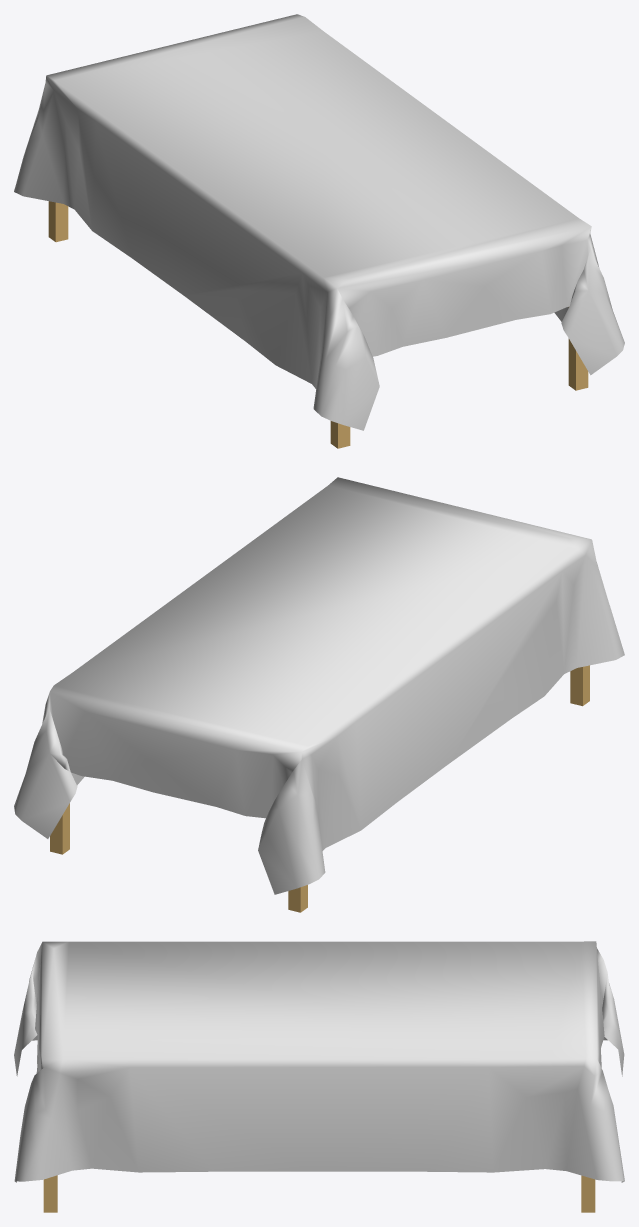
Rendered from bb_table1.fbx.
3 views of the same model, one above another, from view 1: azimuth 30°, elevation 25°; view 2: azimuth 150°, elevation 25°; view 3: azimuth 270°, elevation 25° (orthographic). The views are drawn at different scales.
Visible parts, largest first — view 1: Cube.001; view 2: Cube.001; view 3: Cube.001.
Boxes of the visible parts, x1,y1,x2,y2 form: Cube.001: [14, 14, 624, 448]; Cube.001: [14, 477, 624, 912]; Cube.001: [14, 941, 624, 1212].
Bounding box in the file's own units: 485 × 248 × 887.
